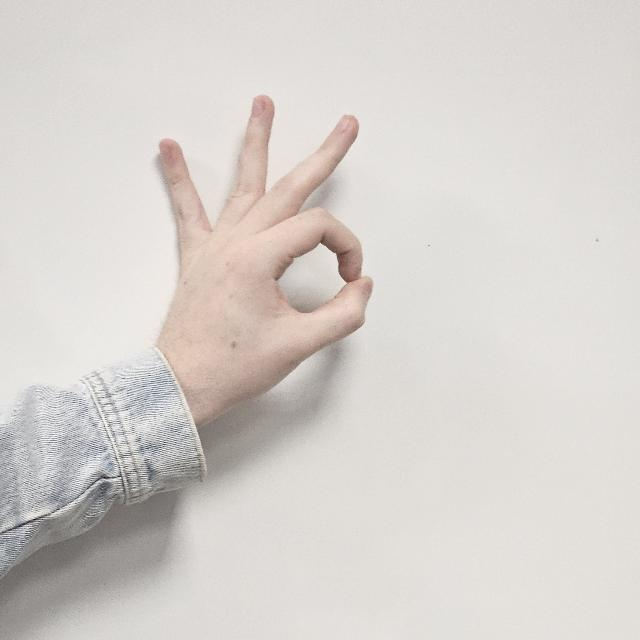Bolinha: (138, 88, 392, 414)
